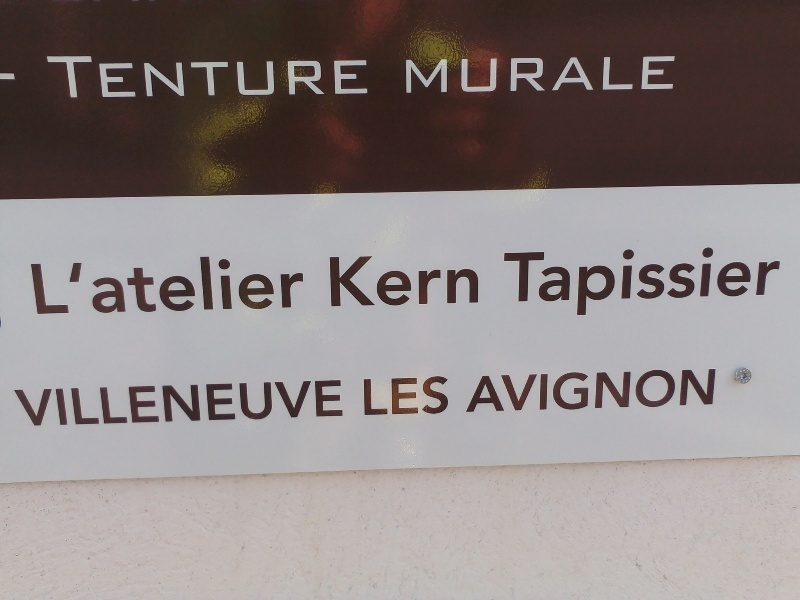text: (513, 247, 528, 320), (529, 247, 544, 320), (545, 247, 560, 320), (561, 247, 576, 320), (577, 247, 592, 320), (593, 247, 608, 320), (609, 247, 624, 320), (625, 247, 640, 320), (641, 247, 656, 320), (657, 247, 672, 320), (673, 247, 688, 320), (689, 247, 704, 320), (705, 247, 720, 320), (721, 247, 736, 320), (737, 247, 752, 320), (753, 247, 768, 320), (769, 247, 783, 320), (33, 254, 48, 318), (49, 254, 64, 318), (65, 254, 80, 318), (81, 254, 96, 318), (97, 254, 112, 318), (113, 254, 128, 318), (129, 254, 144, 318), (145, 254, 160, 318), (161, 254, 176, 318), (177, 254, 192, 318), (193, 254, 208, 318), (209, 254, 224, 318), (225, 254, 240, 318), (241, 254, 256, 318), (257, 254, 272, 318), (273, 254, 288, 318), (289, 254, 304, 318), (337, 254, 352, 308), (353, 254, 368, 308), (369, 254, 384, 308), (385, 254, 400, 308), (401, 254, 416, 308), (417, 254, 432, 308), (433, 254, 448, 308), (449, 254, 464, 308), (465, 254, 480, 308), (17, 379, 32, 429), (33, 379, 48, 429), (49, 379, 64, 429), (65, 379, 80, 429), (81, 379, 96, 429), (97, 379, 112, 429), (113, 379, 128, 429), (129, 379, 144, 429), (145, 379, 160, 429), (161, 379, 176, 429), (177, 379, 192, 429), (193, 379, 208, 429), (209, 379, 224, 429), (225, 379, 240, 429), (241, 379, 256, 429), (257, 379, 272, 429), (273, 379, 288, 429), (289, 379, 304, 429), (305, 379, 320, 429), (321, 379, 336, 429), (49, 52, 64, 100), (65, 52, 80, 100), (81, 52, 96, 100), (97, 52, 112, 100), (113, 52, 128, 100), (129, 52, 144, 100), (145, 52, 160, 100), (161, 52, 176, 100), (177, 52, 192, 100), (193, 52, 208, 100), (209, 52, 224, 100), (225, 52, 240, 100), (241, 52, 256, 100), (257, 52, 272, 100), (273, 52, 288, 100), (289, 52, 304, 100), (305, 52, 320, 100), (321, 52, 336, 100), (337, 52, 352, 100), (353, 52, 368, 100), (465, 366, 480, 413), (481, 366, 496, 413), (497, 366, 512, 413), (513, 366, 528, 413), (529, 366, 544, 413), (545, 366, 560, 413), (561, 366, 576, 413), (577, 366, 592, 413), (593, 366, 608, 413), (609, 366, 624, 413), (625, 366, 640, 413), (641, 366, 656, 413), (657, 366, 672, 413), (673, 366, 688, 413), (689, 366, 704, 413), (705, 366, 720, 413), (337, 379, 351, 429), (369, 376, 384, 419), (385, 376, 400, 419), (401, 376, 416, 419), (417, 376, 432, 419), (433, 376, 448, 419), (417, 56, 432, 97), (433, 56, 448, 97), (449, 56, 464, 97), (465, 56, 480, 97), (481, 56, 496, 97), (497, 56, 512, 97), (513, 56, 528, 97), (529, 56, 544, 97), (545, 56, 560, 97), (561, 56, 576, 97), (577, 56, 592, 97), (593, 56, 608, 97), (609, 56, 624, 97), (625, 56, 640, 97), (641, 56, 656, 97), (657, 56, 672, 97), (504, 247, 512, 320), (403, 56, 416, 97), (328, 254, 336, 308), (673, 56, 683, 97), (359, 376, 368, 419), (40, 52, 48, 100), (9, 379, 16, 429), (1, 65, 16, 86), (369, 52, 375, 100), (29, 254, 32, 318), (305, 254, 308, 318), (449, 376, 452, 419), (721, 366, 722, 413), (17, 65, 19, 86)
